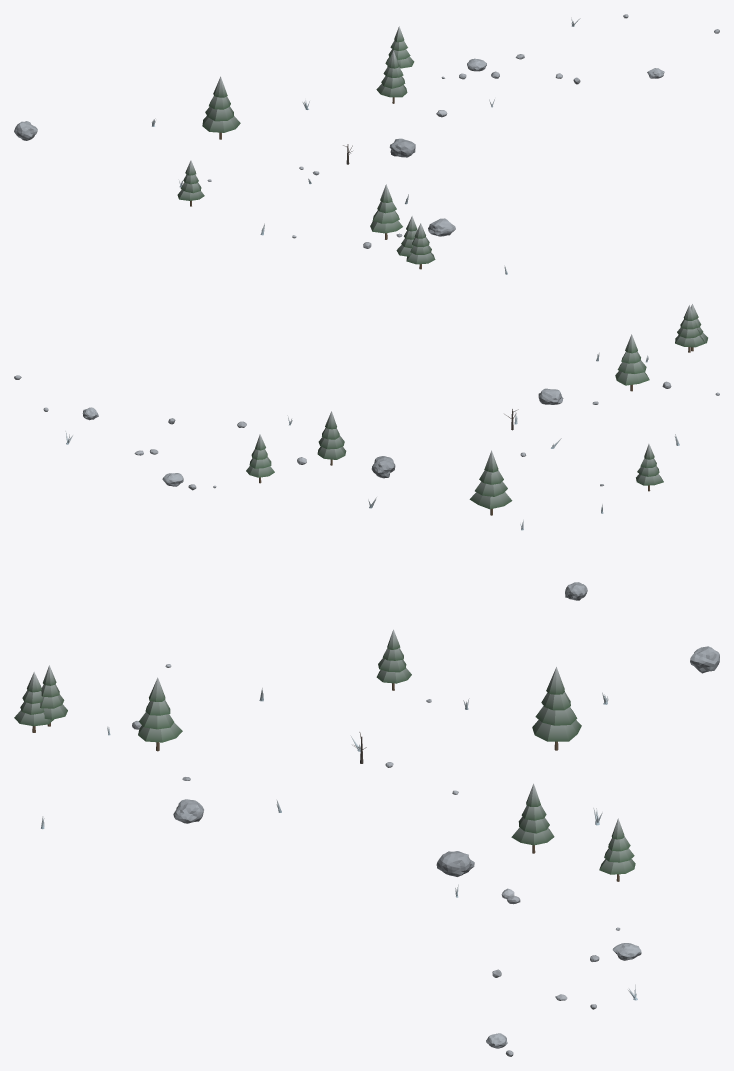
File: frost_land_scatter_c15_12.glb
3 renders of one model, top to bottom at view 1: azimuth 30°, elevation 25°; view 2: azimuth 150°, elevation 25°; view 3: azimuth 270°, elevation 25°, orthographic. The views are drawn at different scales.
Parts seen in each view (by area): view 1: frost_land_scatter_c15_12; view 2: frost_land_scatter_c15_12; view 3: frost_land_scatter_c15_12.
Boxes of the visible parts, left/top/right/bottom form: frost_land_scatter_c15_12: left=14, top=14, right=719, bottom=274; frost_land_scatter_c15_12: left=14, top=304, right=719, bottom=600; frost_land_scatter_c15_12: left=14, top=629, right=719, bottom=1056.
Bounding box in the file's own units: 164 × 21.98 × 120.
